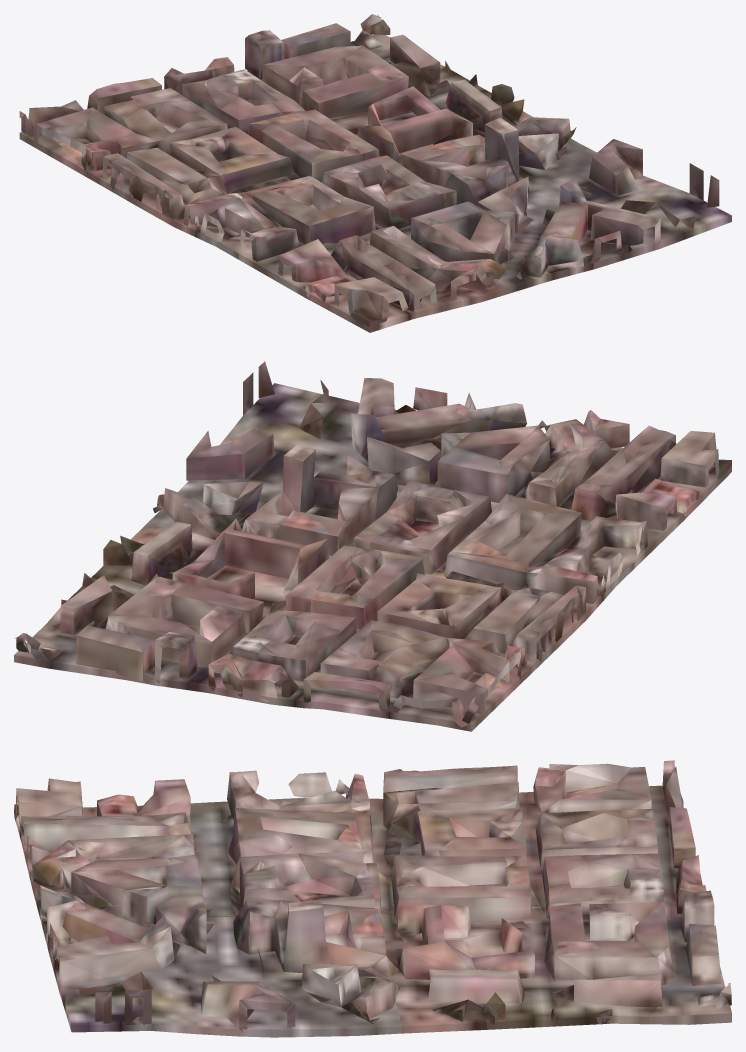
3 renders of one model, top to bottom at view 1: azimuth 30°, elevation 25°; view 2: azimuth 150°, elevation 25°; view 3: azimuth 270°, elevation 25°, orthographic. The views are drawn at different scales.
Visible parts, largest first — view 1: Mesh_0; view 2: Mesh_0; view 3: Mesh_0.
Boxes of the visible parts, left/top/right/bottom form: Mesh_0: left=19, top=14, right=731, bottom=332; Mesh_0: left=14, top=361, right=731, bottom=731; Mesh_0: left=14, top=760, right=731, bottom=1037.
Size of the model in its own units: 539 by 81.83 by 659.
2 materials, 2 textured.
